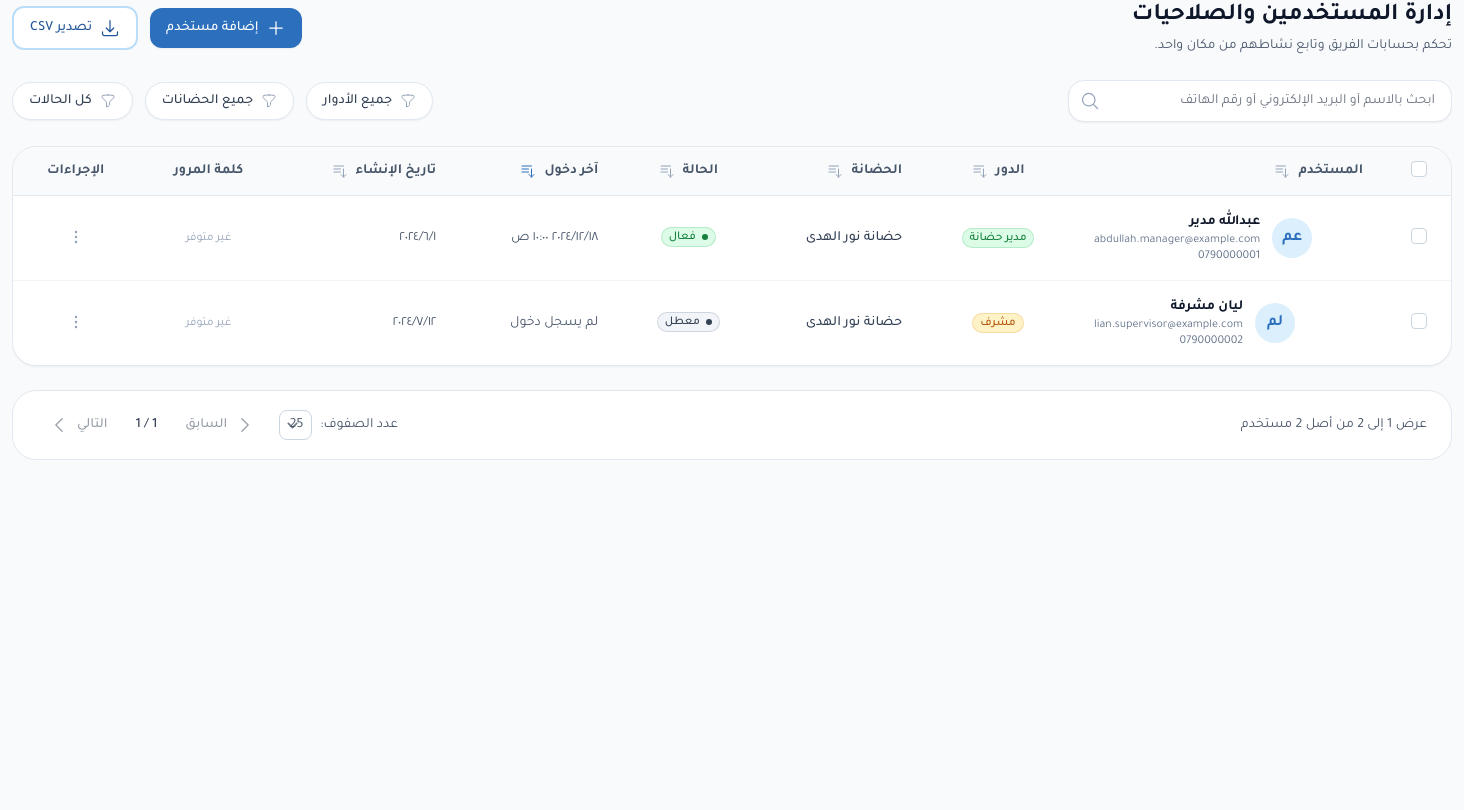
Scenario: UserManagement admin page › shows bulk toolbar when multiple users are selected
Expected: the text "عبدالله مدير" is shown, x1=1190 y1=215 x2=1260 y2=229
What coordinates should you click on to do the following:
click the checkbox next to "عم"
I would click on:
 (1419, 236)
Its box is x1=1411 y1=228 x2=1427 y2=244.
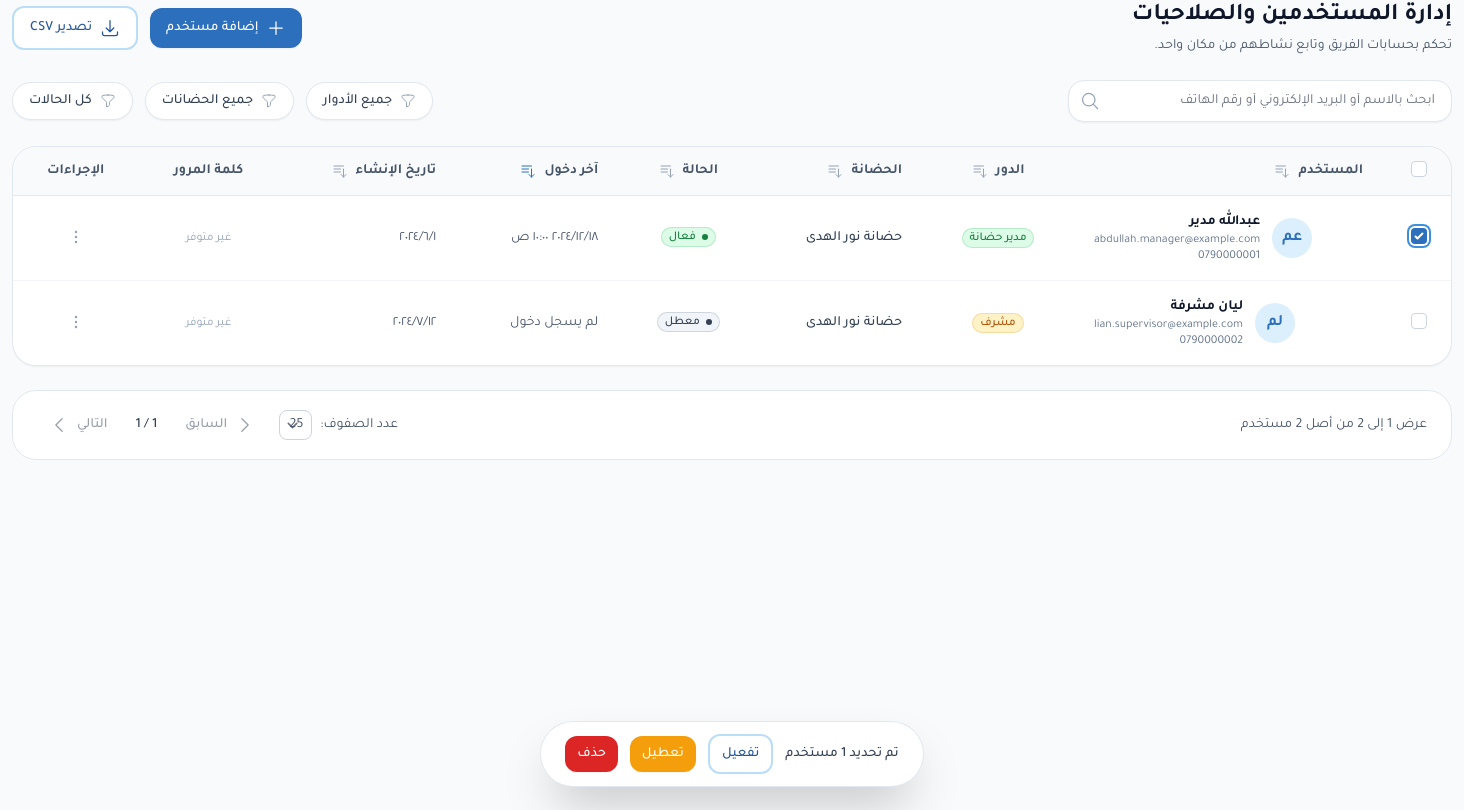
What coordinates should you click on to do the following:
click the checkbox below "ليان مشرفة"
I would click on:
 (1419, 321)
Its box is x1=1411 y1=313 x2=1427 y2=329.
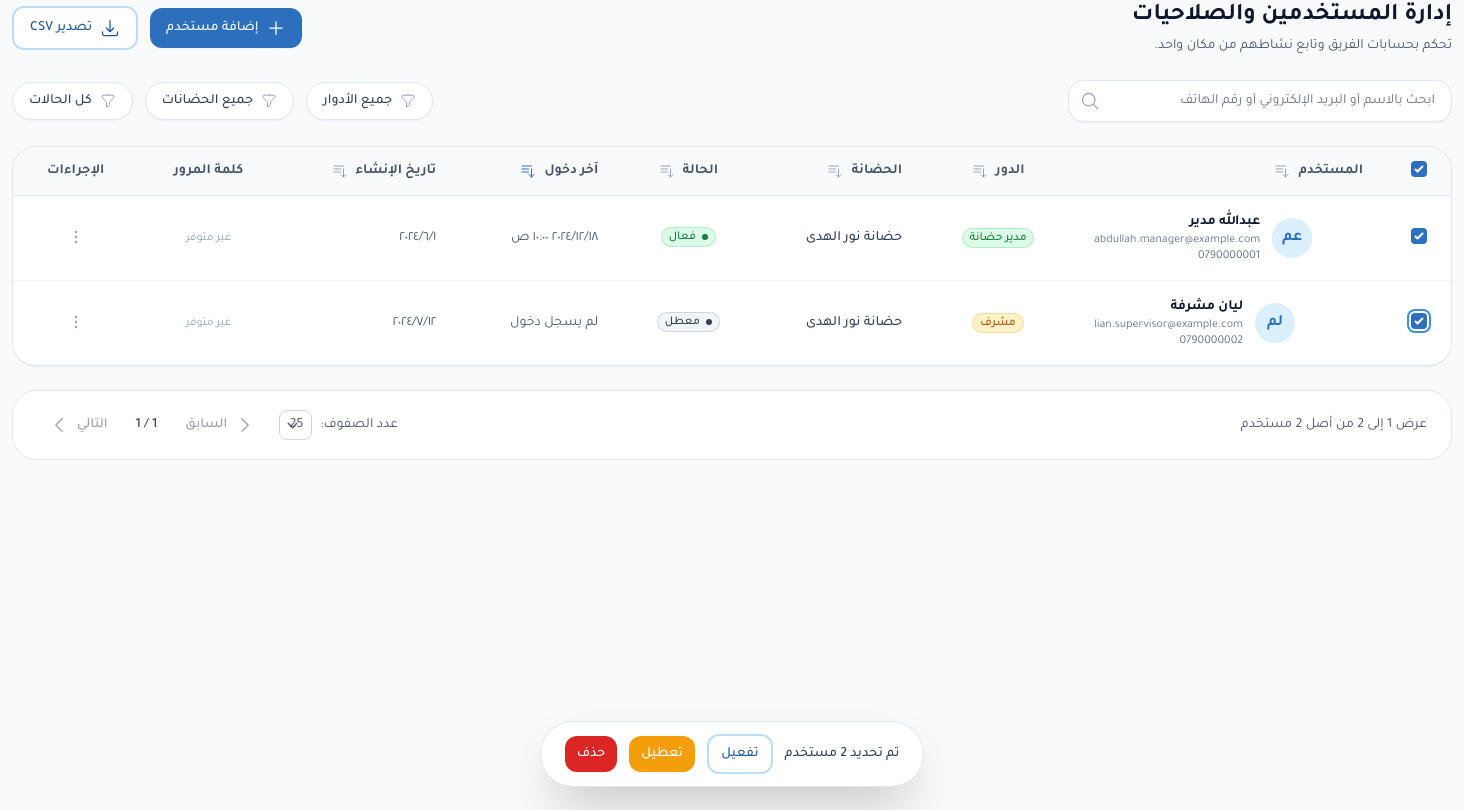
Expected: the text "تم تحديد 2 مستخدم" is shown, x1=784 y1=744 x2=899 y2=764
